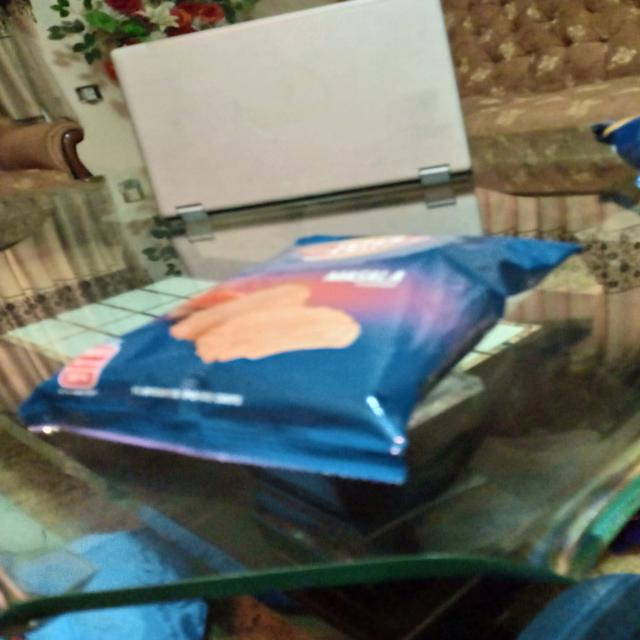Plastic: (46, 233, 580, 477)
